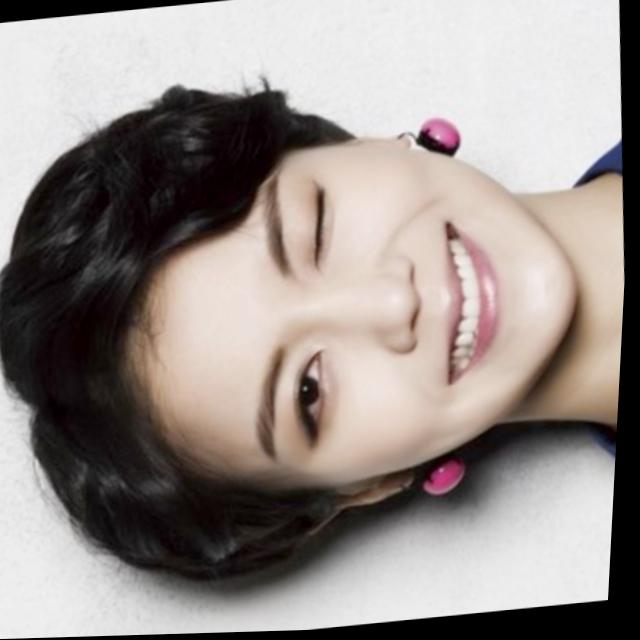face: (56, 92, 617, 563)
